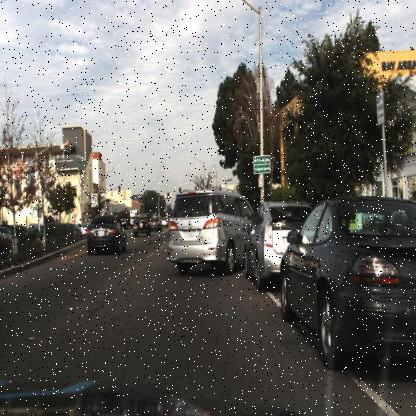car: (280, 194, 416, 371), (164, 180, 249, 284), (168, 187, 257, 271), (242, 200, 305, 294), (84, 208, 127, 258), (288, 194, 339, 235), (132, 210, 152, 235), (146, 210, 164, 234)
